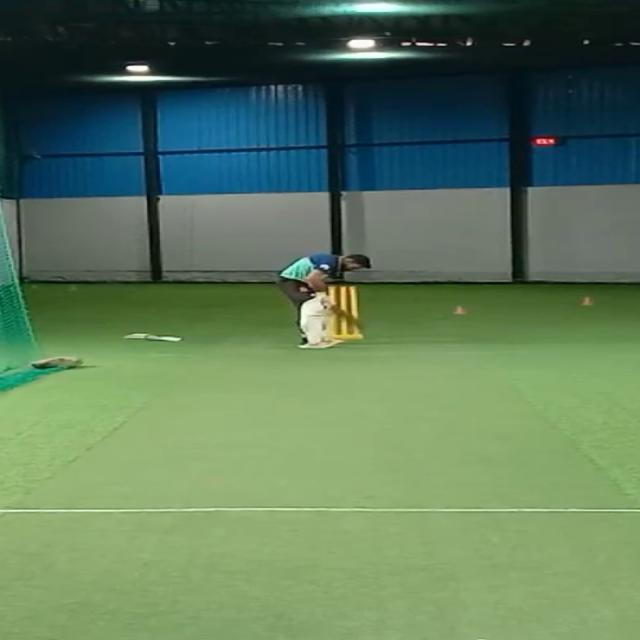stump: (327, 283, 365, 339)
